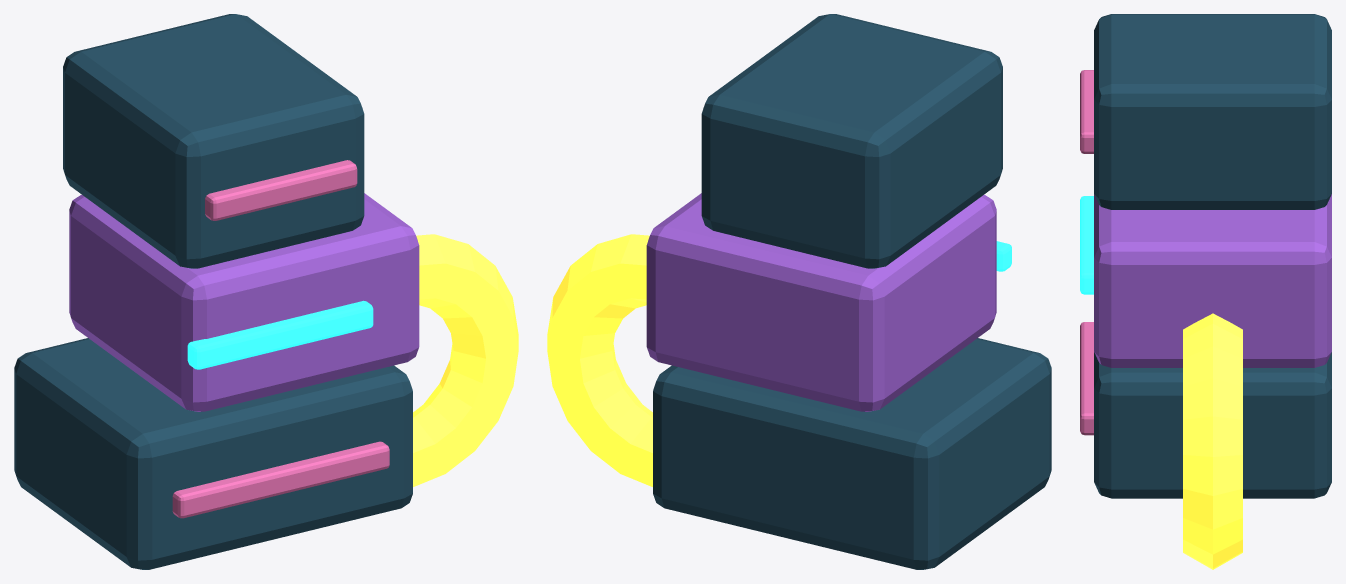
Rendered from salvage_tower.glb.
3 renders of one model, left to right at view 1: azimuth 30°, elevation 25°; view 2: azimuth 150°, elevation 25°; view 3: azimuth 270°, elevation 25°, orthographic. The views are drawn at different scales.
Visible parts, largest first — view 1: SalvageCrate, SalvageCrate.002, SalvageCrate.001, ScrapWheel, NeonStrip, NeonStrip.001, NeonStrip.002; view 2: SalvageCrate, SalvageCrate.002, SalvageCrate.001, ScrapWheel; view 3: SalvageCrate.002, SalvageCrate.001, SalvageCrate, ScrapWheel, NeonStrip, NeonStrip.001, NeonStrip.002.
Boxes of the visible parts, x1,y1,x2,y2 form: SalvageCrate: (14, 338, 412, 569); SalvageCrate.002: (63, 14, 364, 268); SalvageCrate.001: (69, 193, 419, 411); ScrapWheel: (413, 234, 518, 486); NeonStrip: (172, 441, 389, 518); NeonStrip.001: (187, 300, 373, 369); NeonStrip.002: (205, 160, 357, 220); SalvageCrate: (653, 338, 1051, 569); SalvageCrate.002: (701, 14, 1002, 268); SalvageCrate.001: (646, 193, 996, 411); ScrapWheel: (547, 234, 652, 486); SalvageCrate.002: (1094, 14, 1331, 209); SalvageCrate.001: (1094, 194, 1331, 367); SalvageCrate: (1094, 352, 1331, 498); ScrapWheel: (1183, 313, 1242, 569); NeonStrip: (1080, 322, 1093, 435); NeonStrip.001: (1080, 196, 1093, 294); NeonStrip.002: (1080, 70, 1093, 153).
Size of the model in its own units: 2.2 by 2.18 by 1.17.
